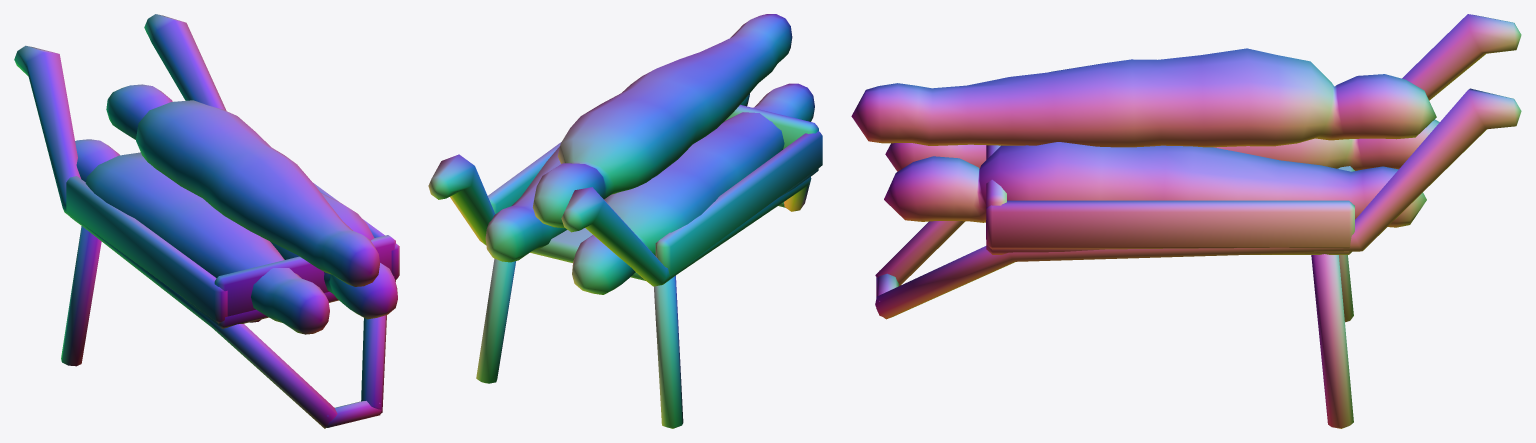
File: SM_NPCKit_Prop_Barrow.fbx
The picture shows the model from 3 angles, left to right: view 1: azimuth 30°, elevation 25°; view 2: azimuth 150°, elevation 25°; view 3: azimuth 270°, elevation 25°; orthographic projection. The views are drawn at different scales.
Visible parts, largest first — view 1: SM_NPCKit_Prop_Barrow; view 2: SM_NPCKit_Prop_Barrow; view 3: SM_NPCKit_Prop_Barrow.
Boxes of the visible parts, bbox=[...] form: SM_NPCKit_Prop_Barrow: bbox=[14, 14, 399, 428]; SM_NPCKit_Prop_Barrow: bbox=[428, 14, 822, 428]; SM_NPCKit_Prop_Barrow: bbox=[851, 14, 1521, 428].
Size of the model in its own units: 0.6637 by 0.8503 by 1.6.
